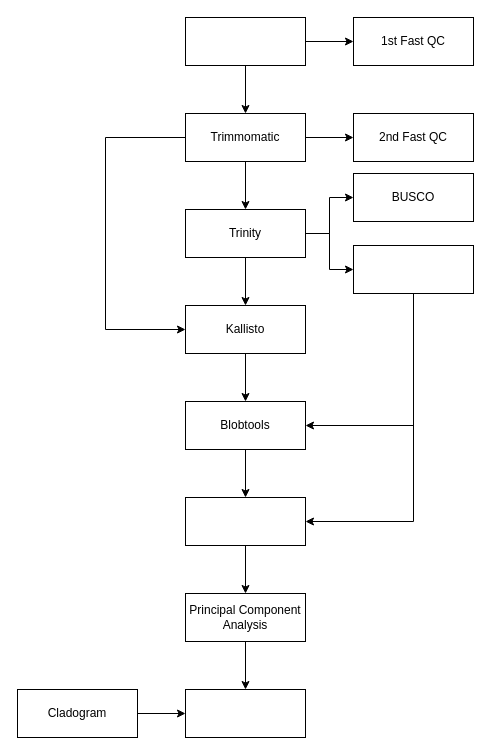
The diagram is 491 pixels wide and 755 high, and some of its shapes have lost their labels. The shapes that lost their labels are listed below. From the top down, each one's centre as x and y in pixels, then its label:
At point (245, 41): "Download SRA libraries".
At point (413, 269): "Blast".
At point (245, 521): "Cali.py".
At point (245, 713): "MCMCglmm".
